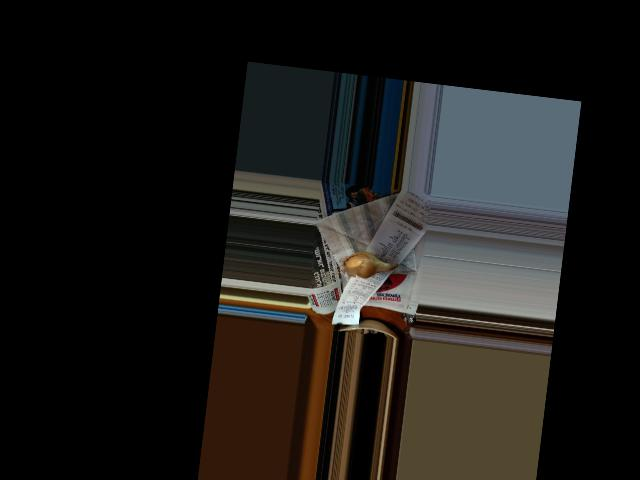onion: (345, 248, 385, 280)
